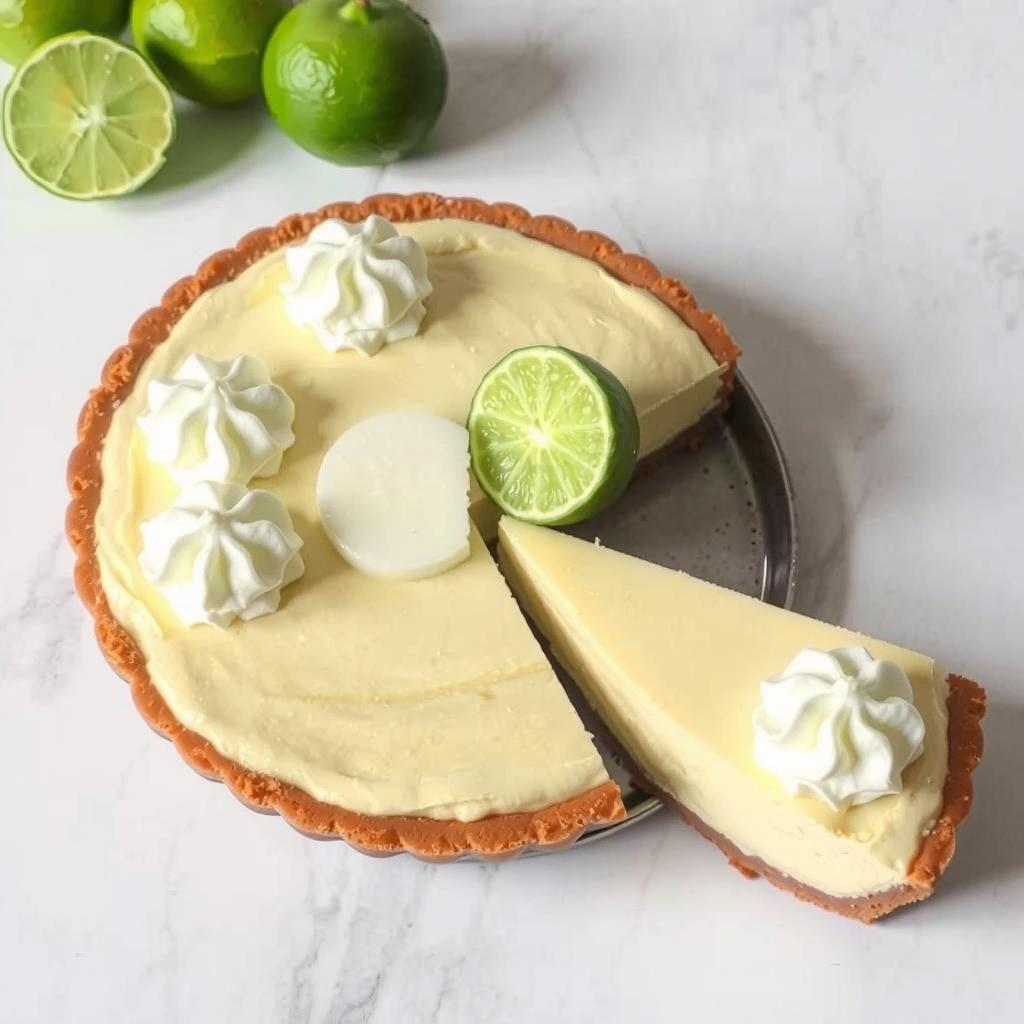pie: (59, 183, 990, 934)
